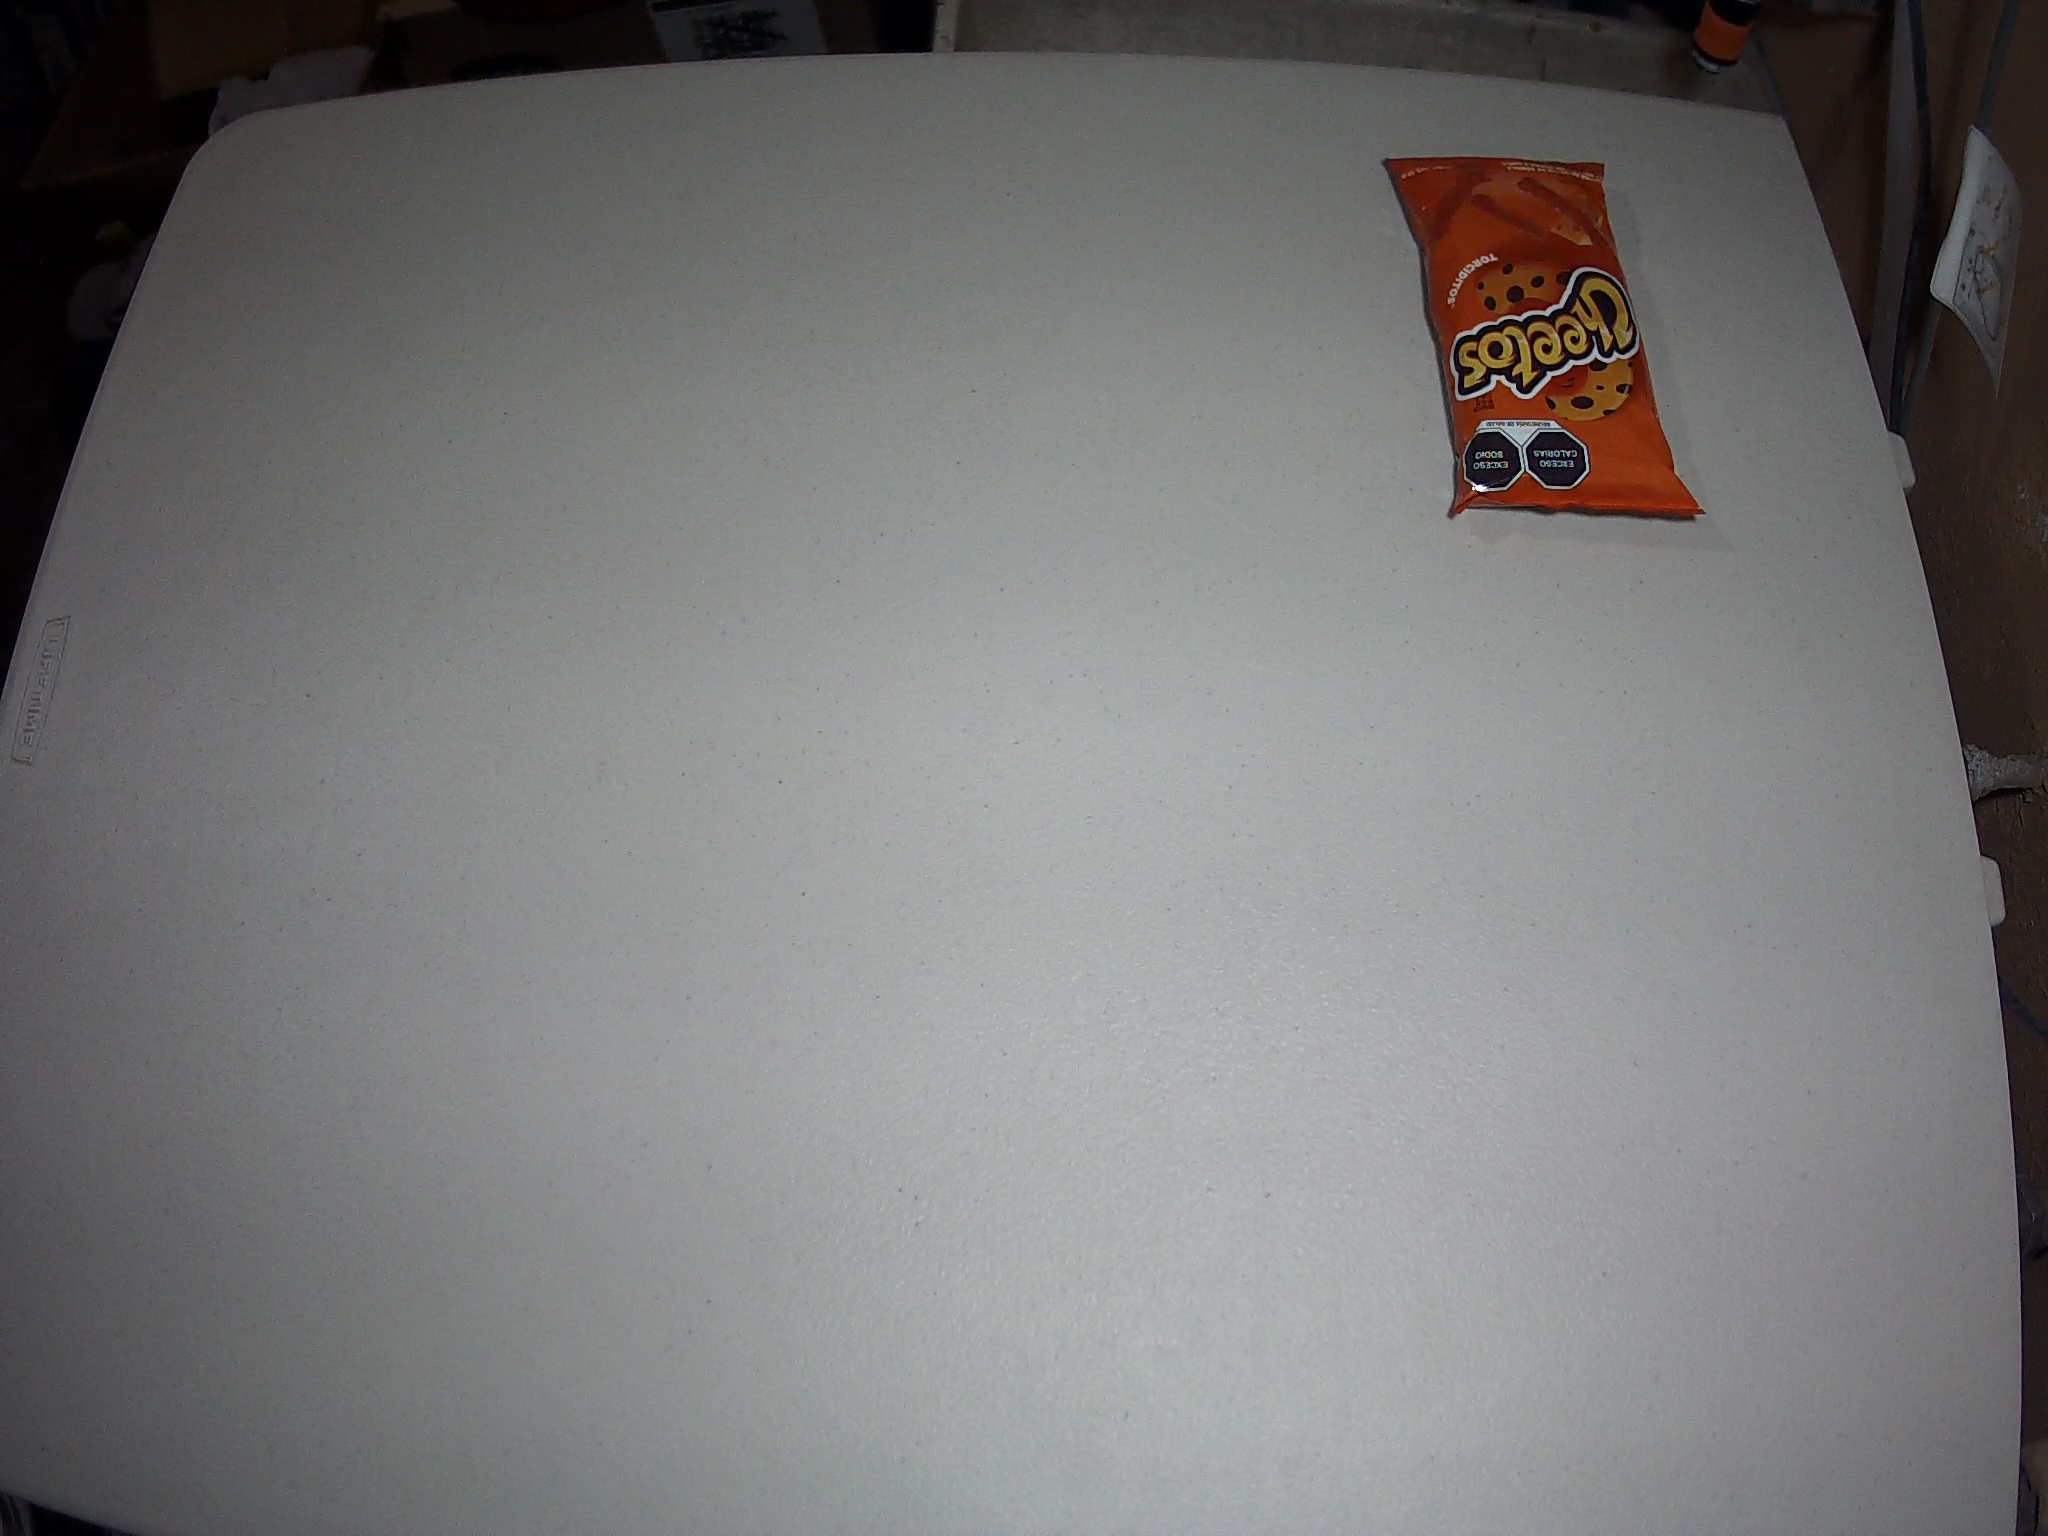CheetosTorciditos_55_F: (1385, 160, 1709, 520)
